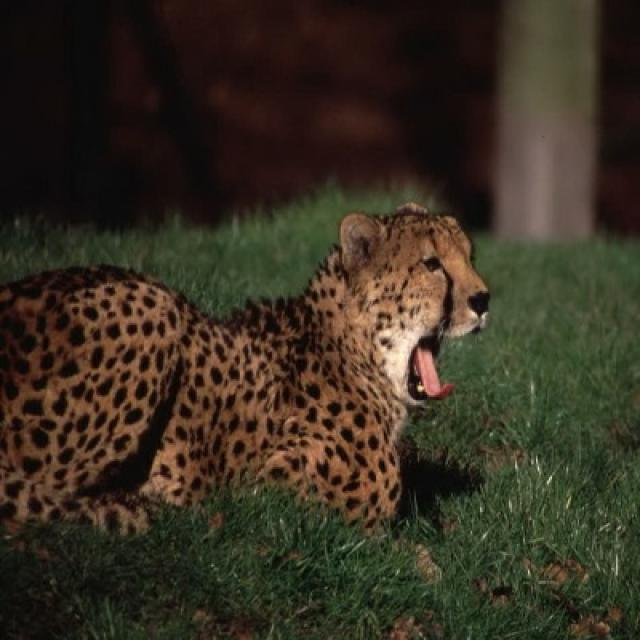Cheetah: (0, 203, 488, 533)
